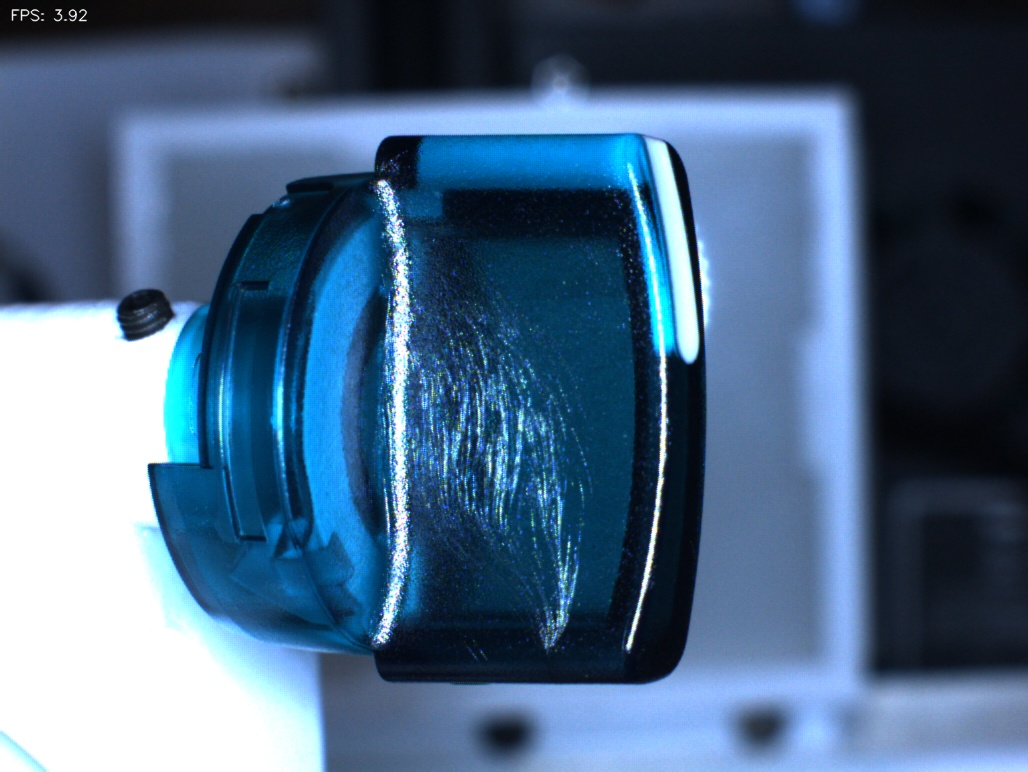Givrage: (402, 261, 595, 648)
